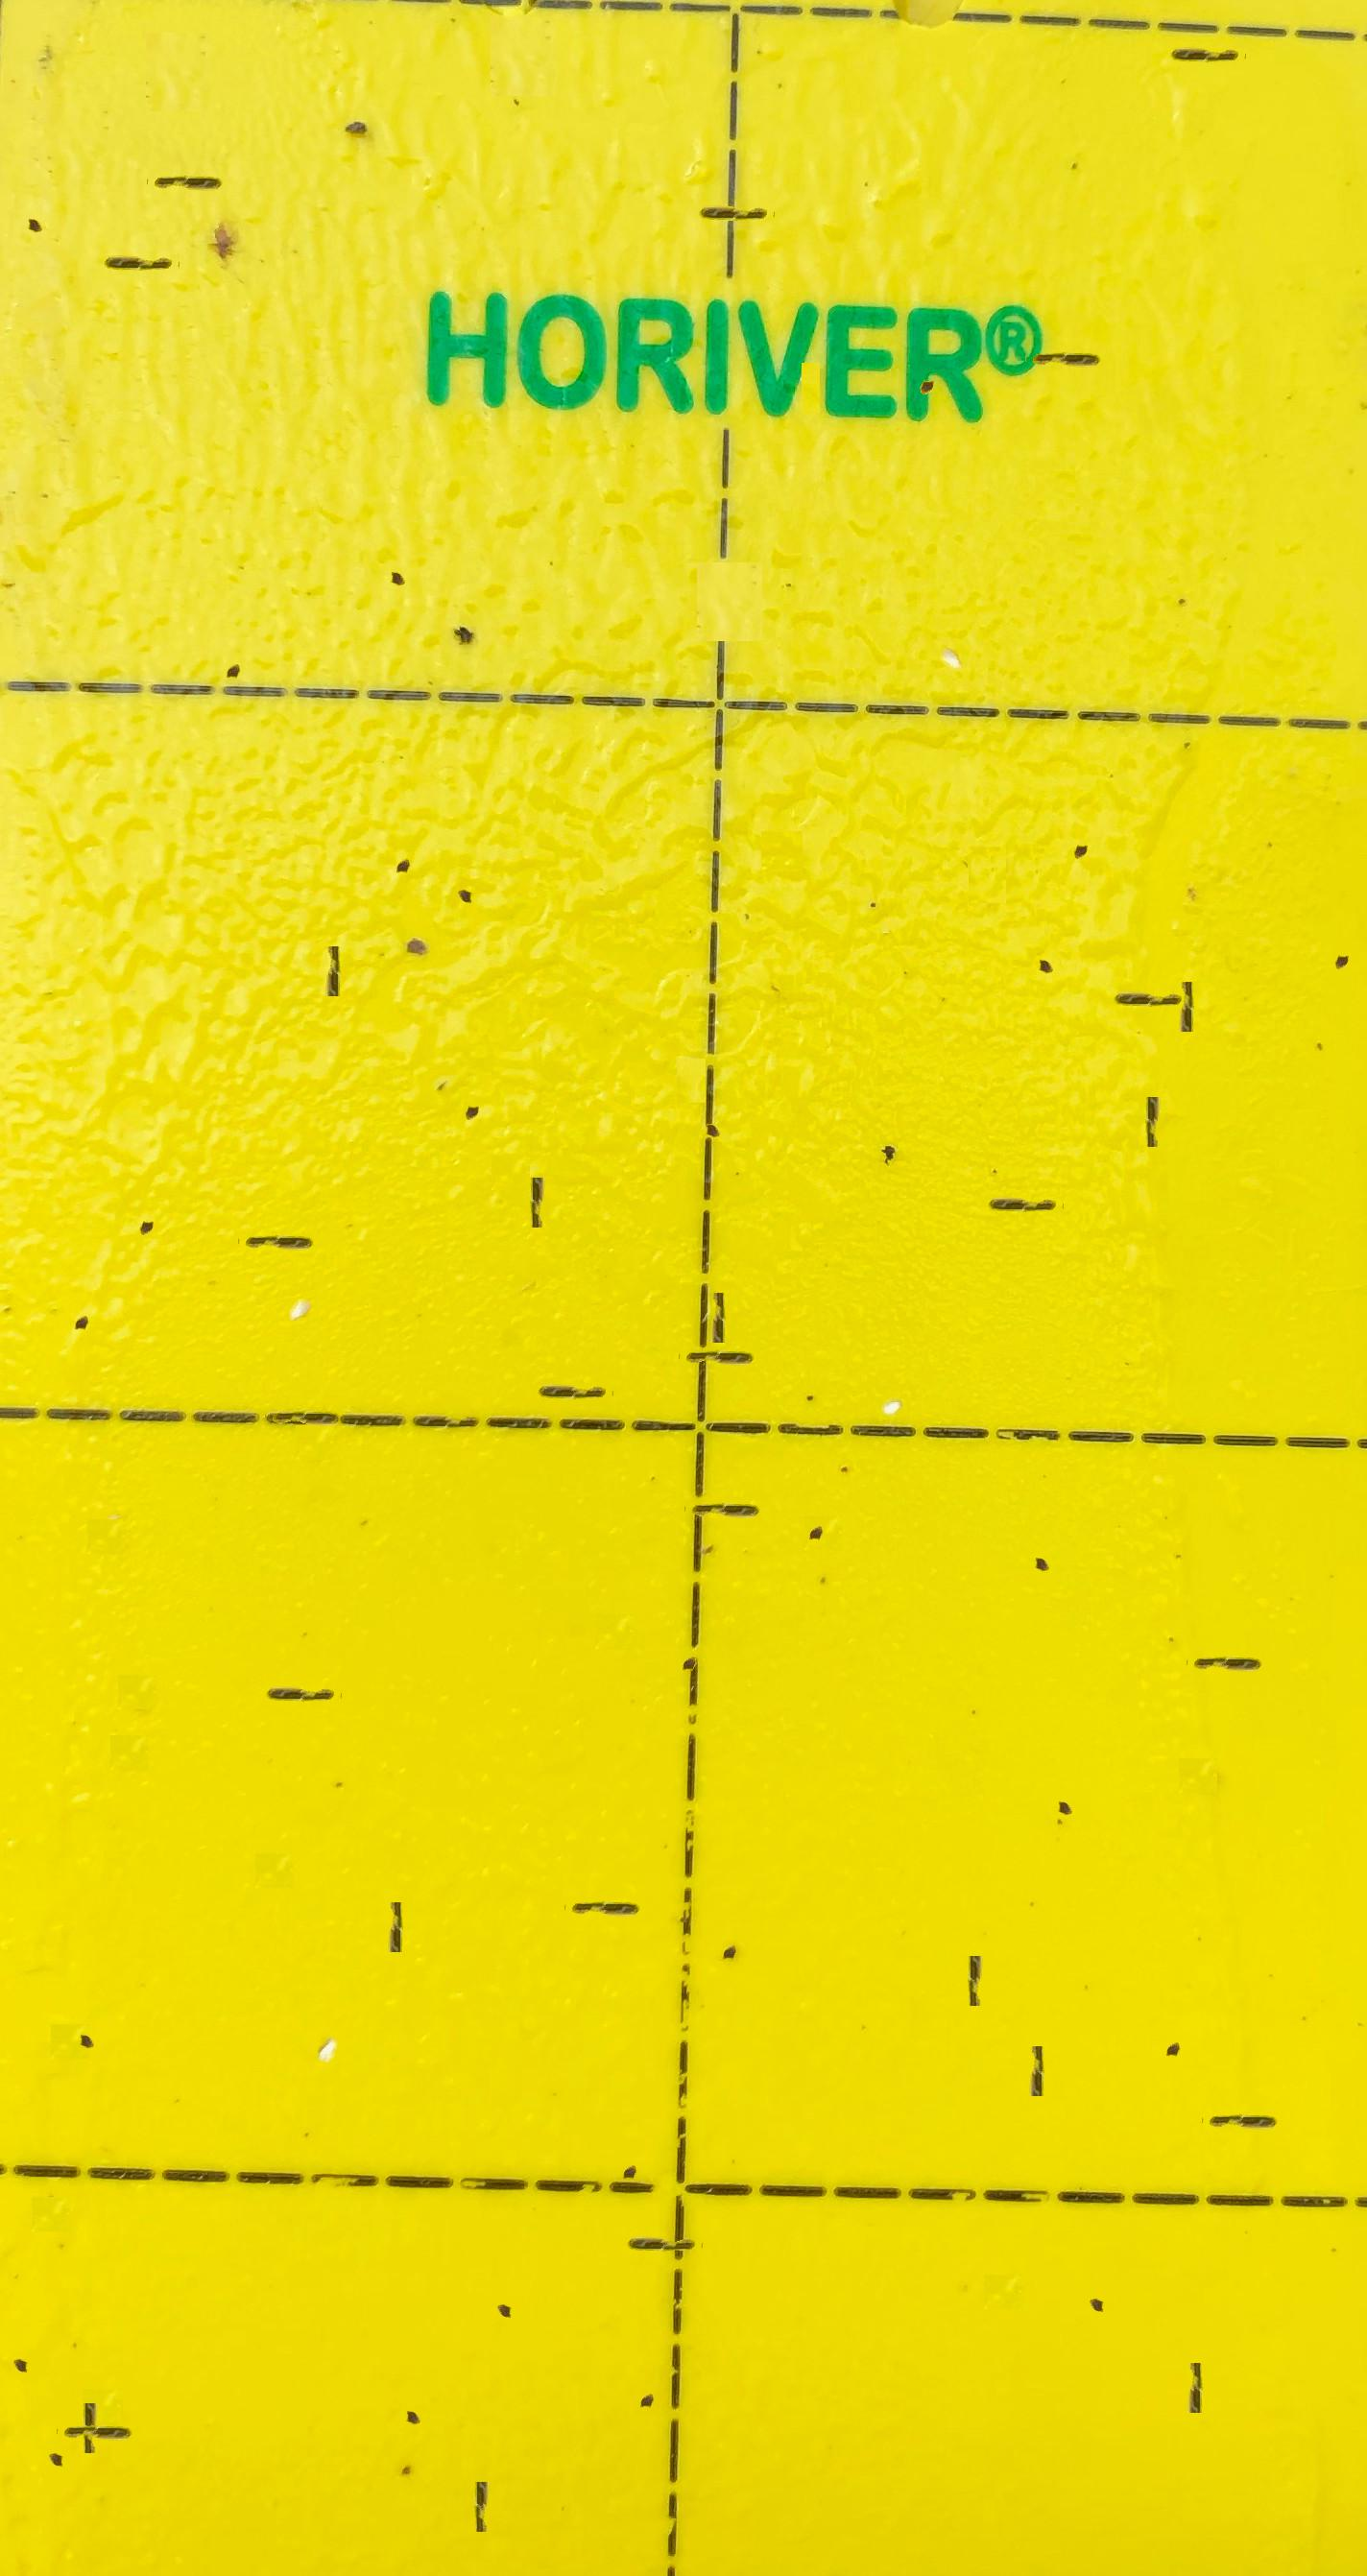white_fly: (869, 1336, 912, 1383), (309, 1987, 351, 2031), (929, 593, 972, 635), (280, 1244, 322, 1286)
